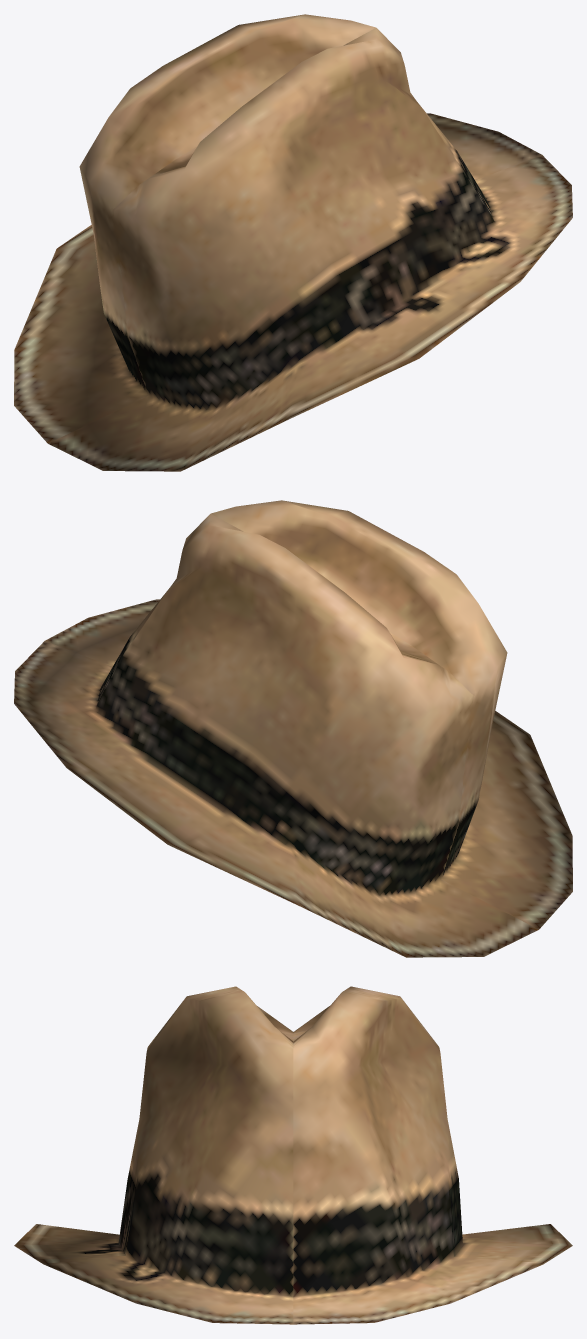
The model's file is hat_0400055.FBX.
3 views of the same model, one above another, from view 1: azimuth 30°, elevation 25°; view 2: azimuth 150°, elevation 25°; view 3: azimuth 270°, elevation 25° (orthographic). The views are drawn at different scales.
Visible parts, largest first — view 1: hat_0400055; view 2: hat_0400055; view 3: hat_0400055.
Boxes of the visible parts, <box> form: hat_0400055: <box>14,14,572,471</box>; hat_0400055: <box>14,500,572,957</box>; hat_0400055: <box>14,986,572,1324</box>.
Size of the model in its own units: 43.68 by 29.2 by 38.73.
